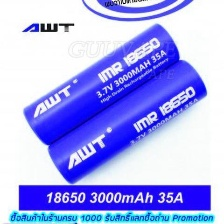battery: (45, 56, 210, 185), (20, 21, 183, 151)
